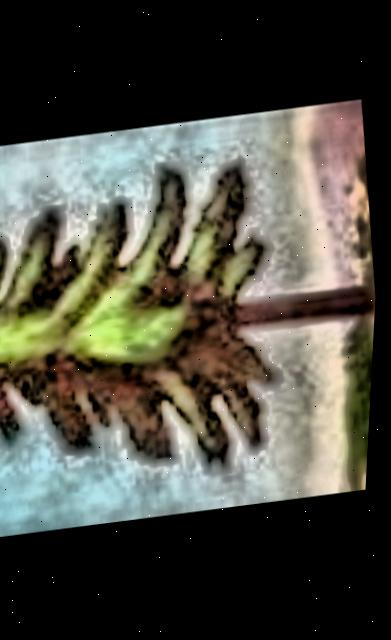El Pino: (0, 99, 387, 537)
